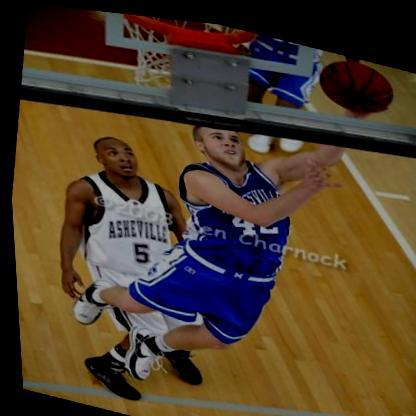basketball: (314, 45, 397, 110)
rim: (95, 8, 262, 50)
